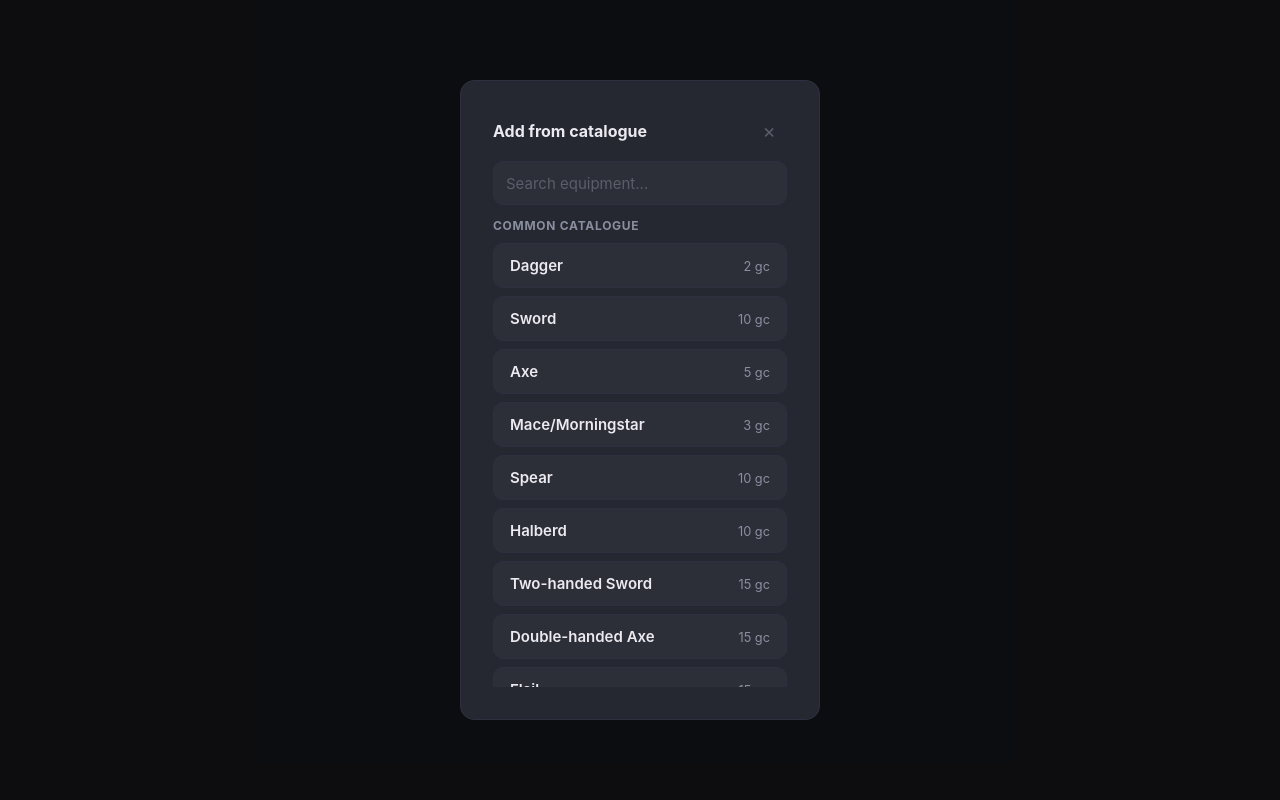
Test: EquipmentPicker › search filtering › filters common catalogue items by query (case-insensitive)
The width and height of the screenshot is (1280, 800).
Type "sword" into the field labelled "Search equipment..." at (640, 183), box [493,161,787,205]
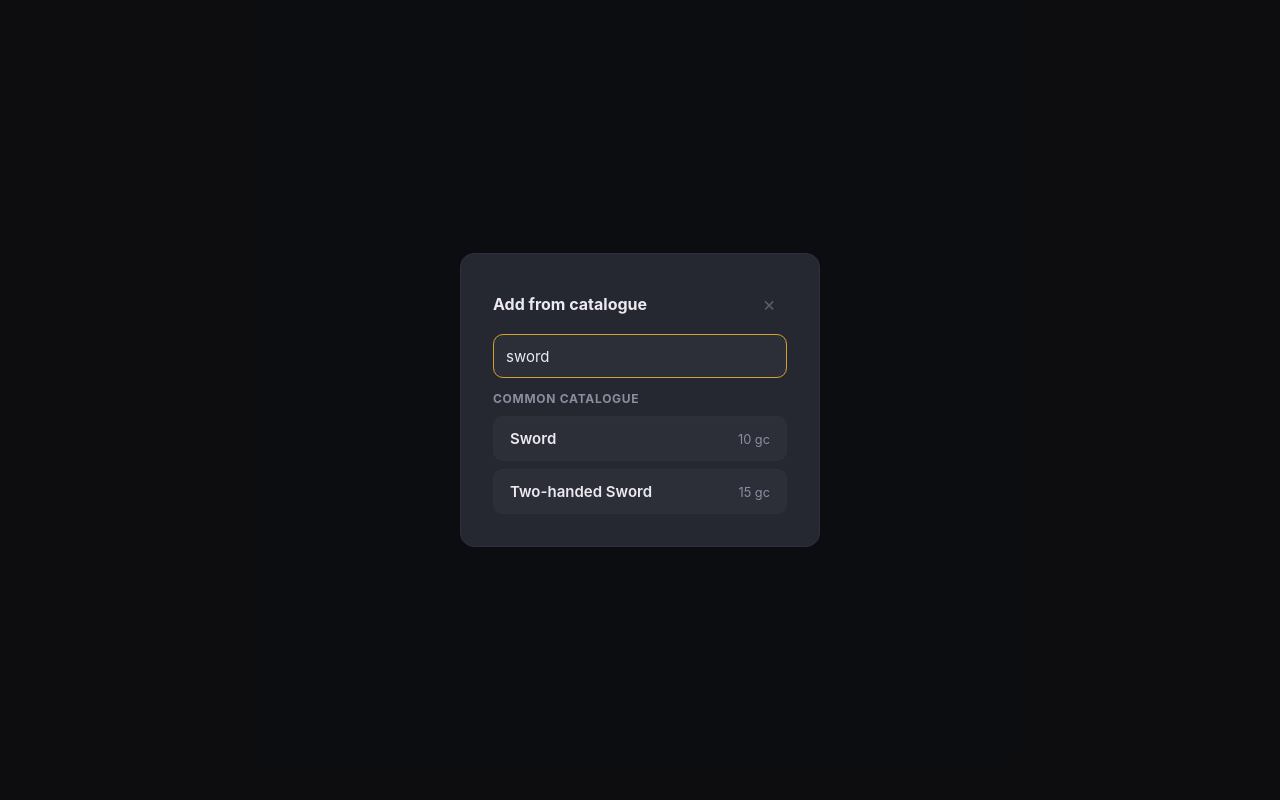
Expected: the button "Sword 10 gc" is shown, [493,416,787,461]
Now the button "Dagger" is gone
